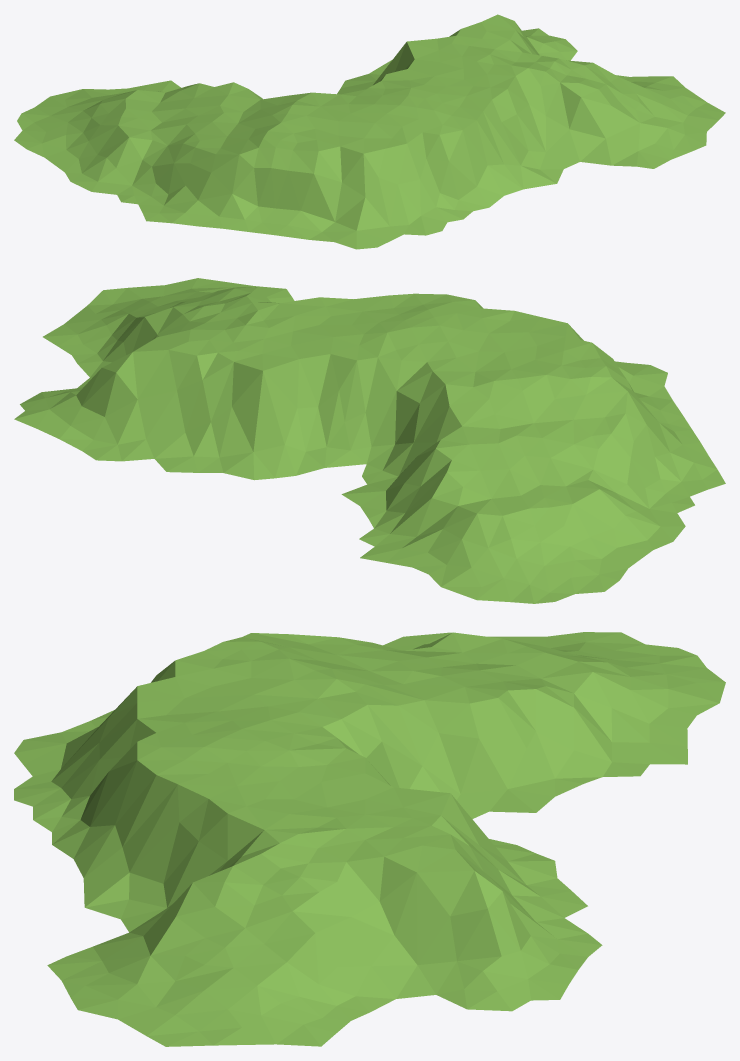
Rendered from MT_Mountain_L_c_05.fbx.
The picture shows the model from 3 angles, top to bottom: view 1: azimuth 30°, elevation 25°; view 2: azimuth 150°, elevation 25°; view 3: azimuth 270°, elevation 25°; orthographic projection. The views are drawn at different scales.
Visible parts, largest first — view 1: MT_Mountain_L_c_05; view 2: MT_Mountain_L_c_05; view 3: MT_Mountain_L_c_05.
Boxes of the visible parts, left/top/right/bottom form: MT_Mountain_L_c_05: left=14, top=14, right=725, bottom=249; MT_Mountain_L_c_05: left=14, top=278, right=725, bottom=603; MT_Mountain_L_c_05: left=14, top=632, right=725, bottom=1046.
Bounding box in the file's own units: 8087 × 914 × 5860.
